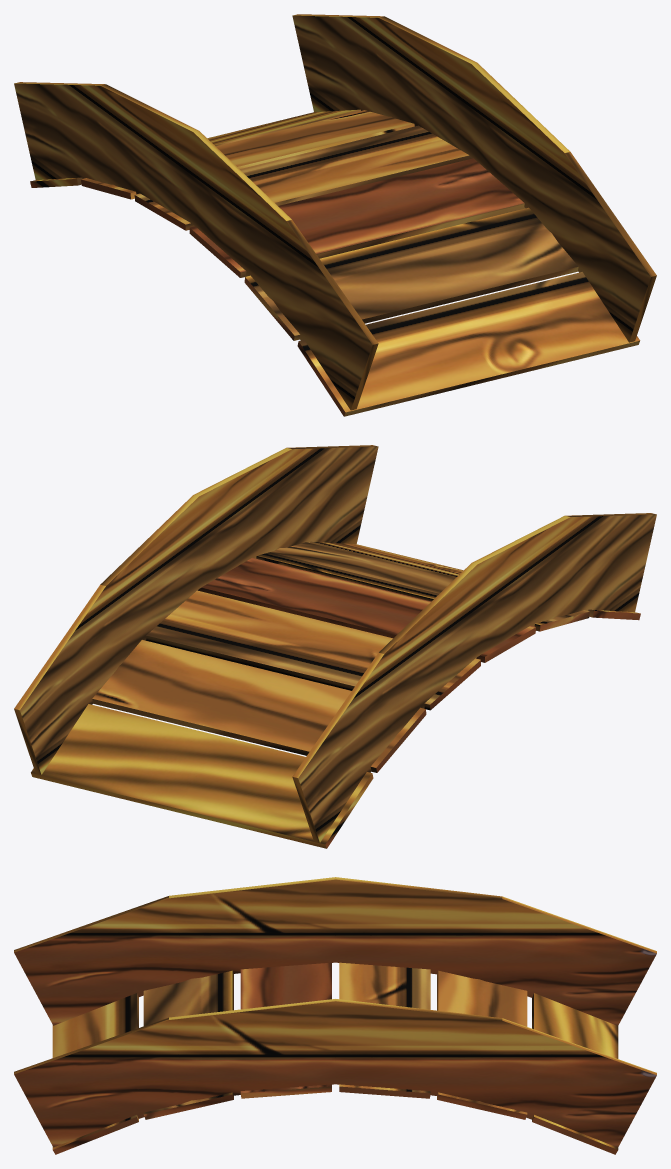
File: Bridge.fbx
The picture shows the model from 3 angles, top to bottom: view 1: azimuth 30°, elevation 25°; view 2: azimuth 150°, elevation 25°; view 3: azimuth 270°, elevation 25°; orthographic projection. The views are drawn at different scales.
Parts seen in each view (by area): view 1: Bridge; view 2: Bridge; view 3: Bridge.
Boxes of the visible parts, bbox=[...] form: Bridge: bbox=[14, 14, 656, 416]; Bridge: bbox=[14, 445, 656, 848]; Bridge: bbox=[14, 877, 656, 1154].
Size of the model in its own units: 1 by 0.5478 by 2.11.
Materials: 1 (1 with a texture image).
